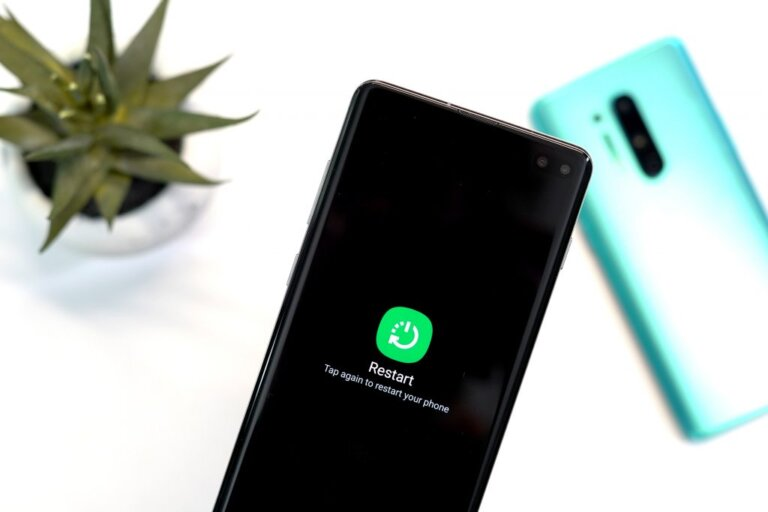phone: (208, 74, 597, 512), (524, 33, 768, 451)
